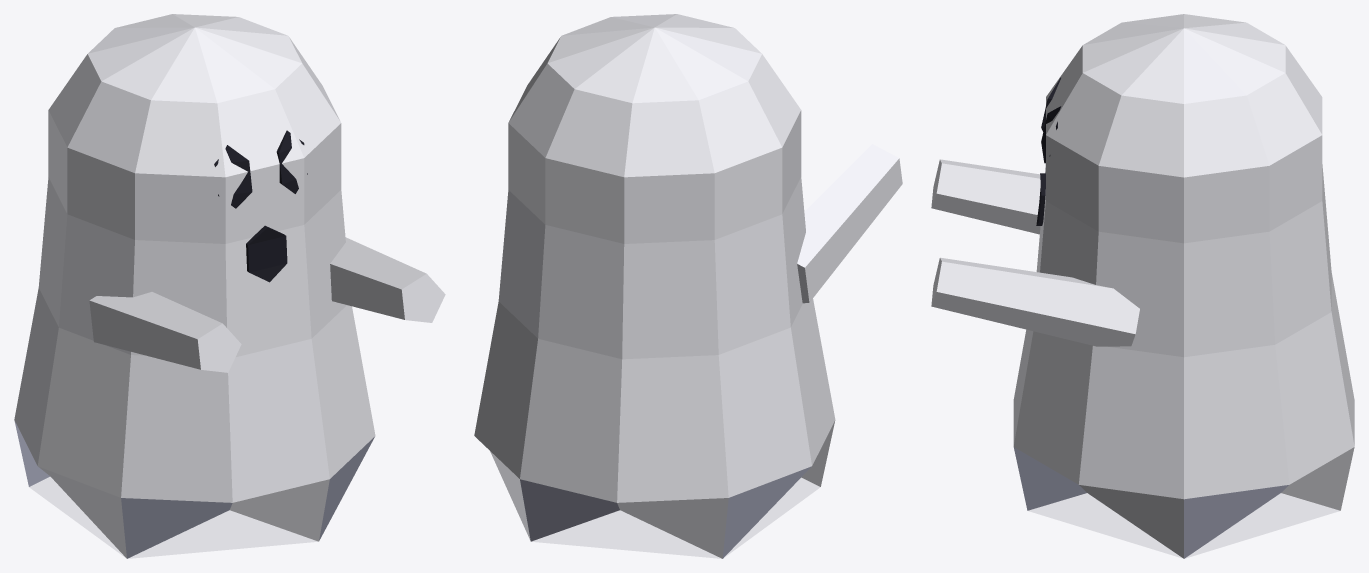
The model's file is ghost-1x1.glb.
3 views of the same model, side by side, from view 1: azimuth 30°, elevation 25°; view 2: azimuth 150°, elevation 25°; view 3: azimuth 270°, elevation 25° (orthographic).
Visible parts, largest first — view 1: ghost-1x1; view 2: ghost-1x1; view 3: ghost-1x1.
Part boxes in pixels (x1,y1,x2,y2): ghost-1x1: (14, 14, 445, 558); ghost-1x1: (474, 14, 902, 558); ghost-1x1: (931, 14, 1354, 558).
Size of the model in its own units: 0.6777 by 0.9616 by 0.8.
1 material, 1 textured.
